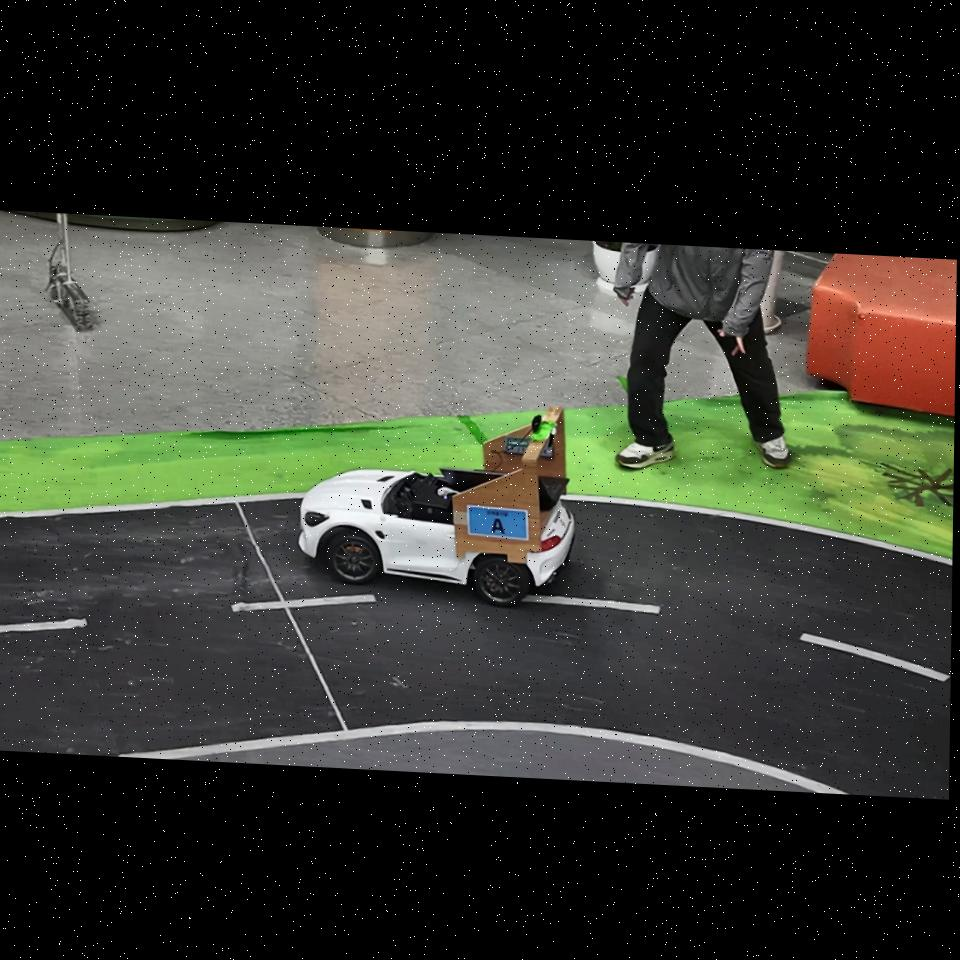broken_line: (800, 633, 950, 681), (521, 594, 661, 614), (231, 595, 376, 612), (0, 618, 87, 633)
